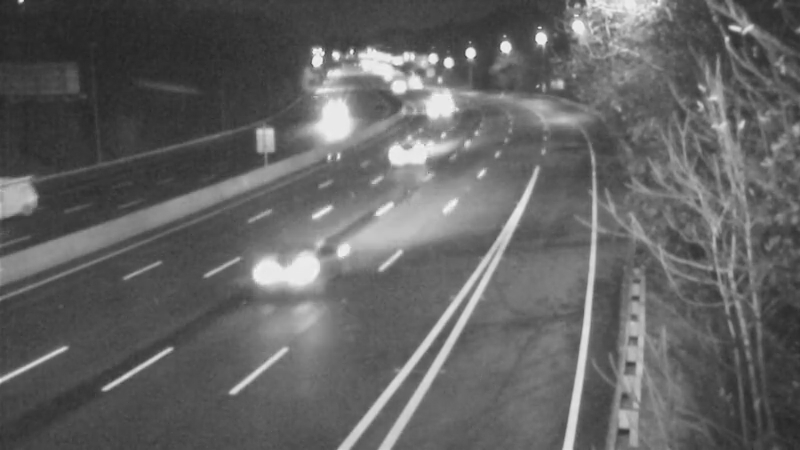vehicle: (369, 114, 449, 194), (250, 231, 330, 311), (1, 153, 68, 233), (409, 68, 459, 118), (416, 82, 466, 132), (305, 95, 355, 145)
